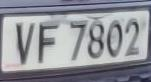0: (106, 16, 126, 63)
2: (124, 14, 143, 62)
7: (68, 16, 90, 65)
8: (85, 16, 107, 66)
F: (34, 18, 63, 68)
V: (11, 18, 37, 66)
